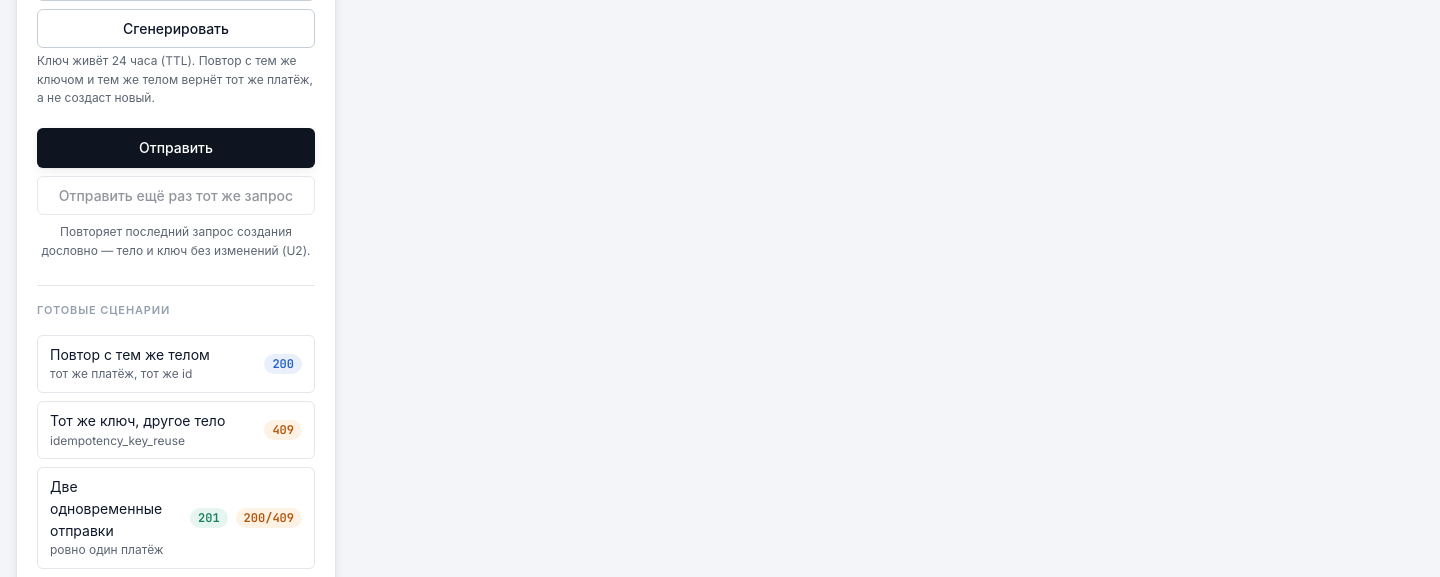
Scenario: @req U4 @req U5 две одновременные отправки, исход второго запроса — 200 › платёж один, id один, список не вырос
(page scrolled)
What coordinates should you click on to do the following:
click the button "Две одновременные отправки ровно один платёж 201 200/409"
I would click on:
 (106, 508)
Its box is [37,467,315,569].
(page scrolled)
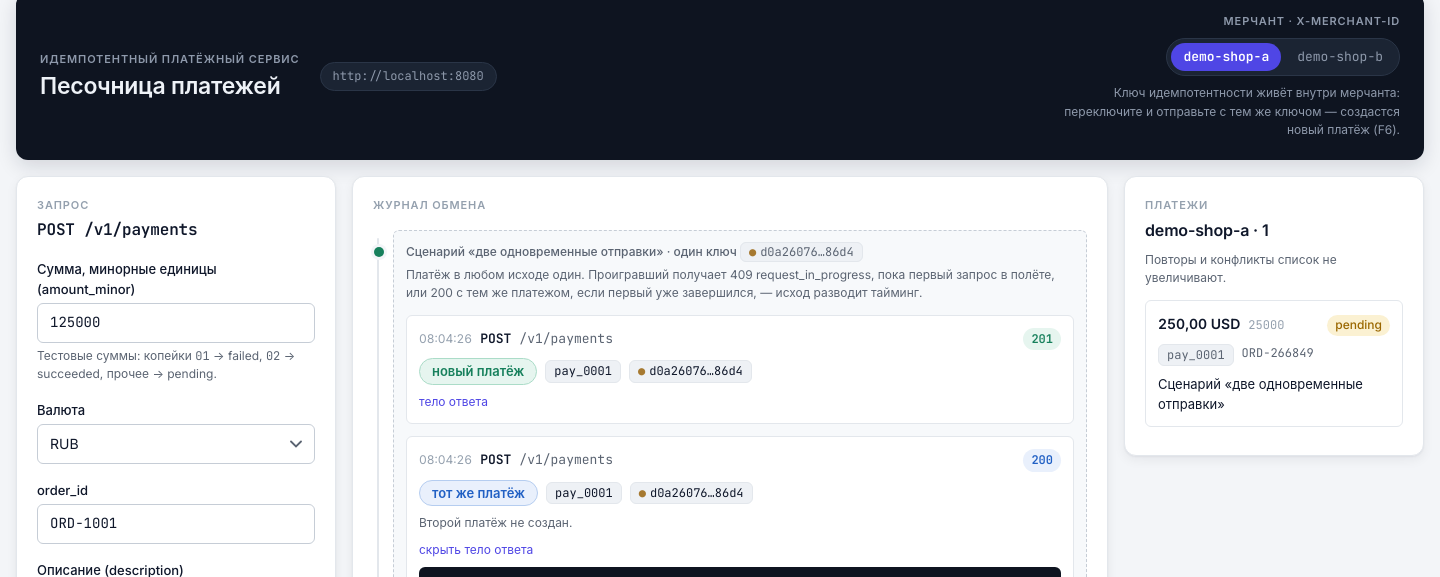
Expected: the element that starts with "250,00 USD" is shown, [1145,300,1403,428]
Expected: the text "demo-shop-a · 1" is shown, [1145,220,1268,240]
